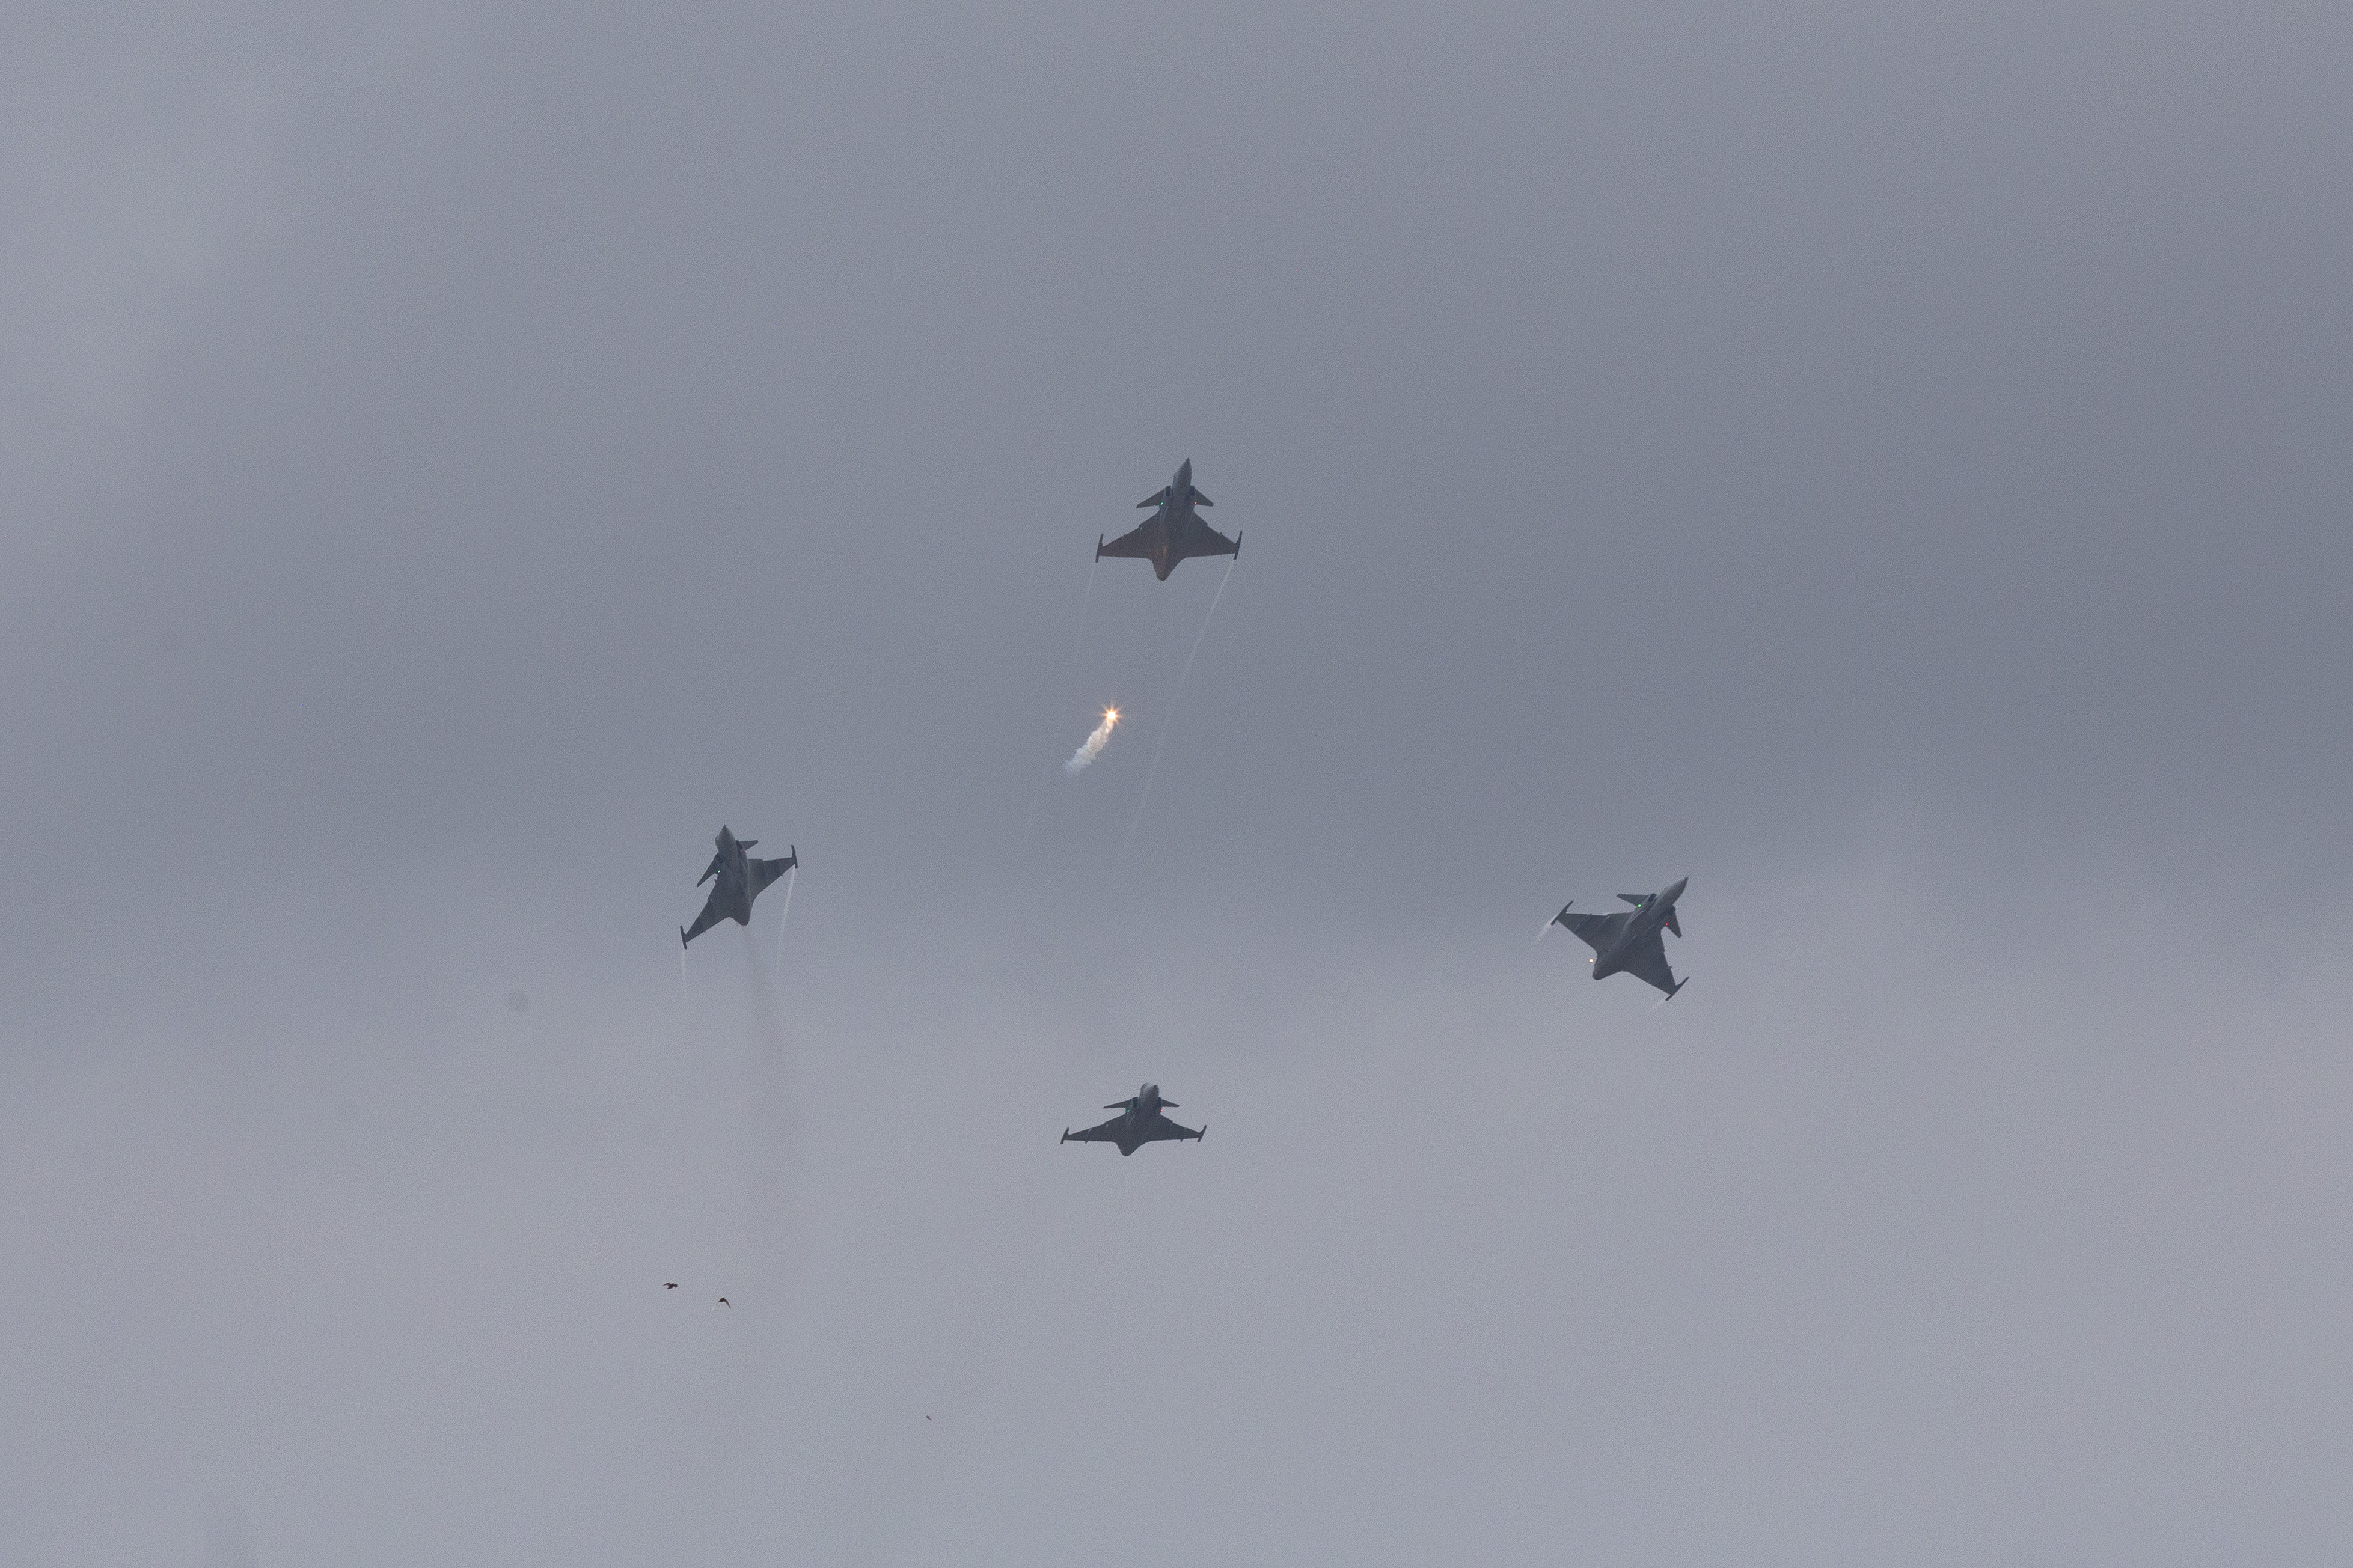JAS39: (1094, 450, 1241, 581), (1549, 871, 1693, 1001), (679, 819, 798, 950), (1059, 1081, 1206, 1157)
